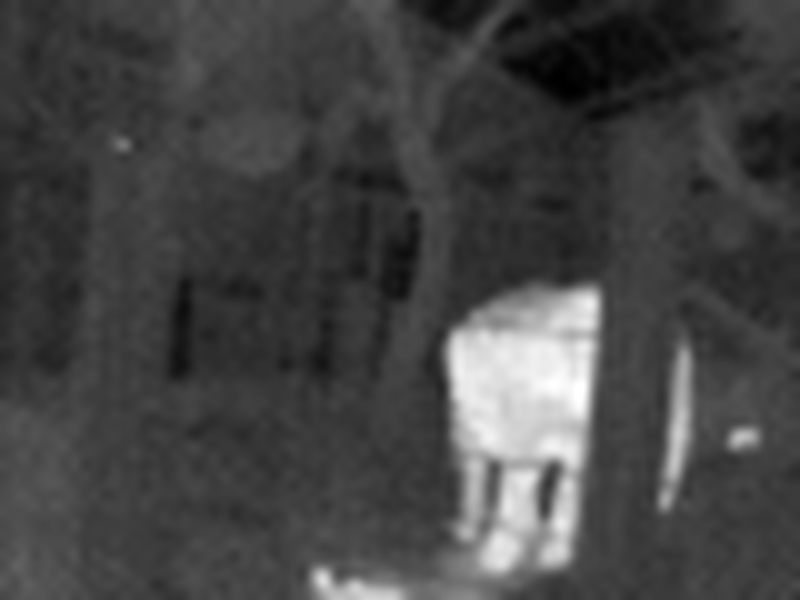elephant: (424, 285, 710, 539)
